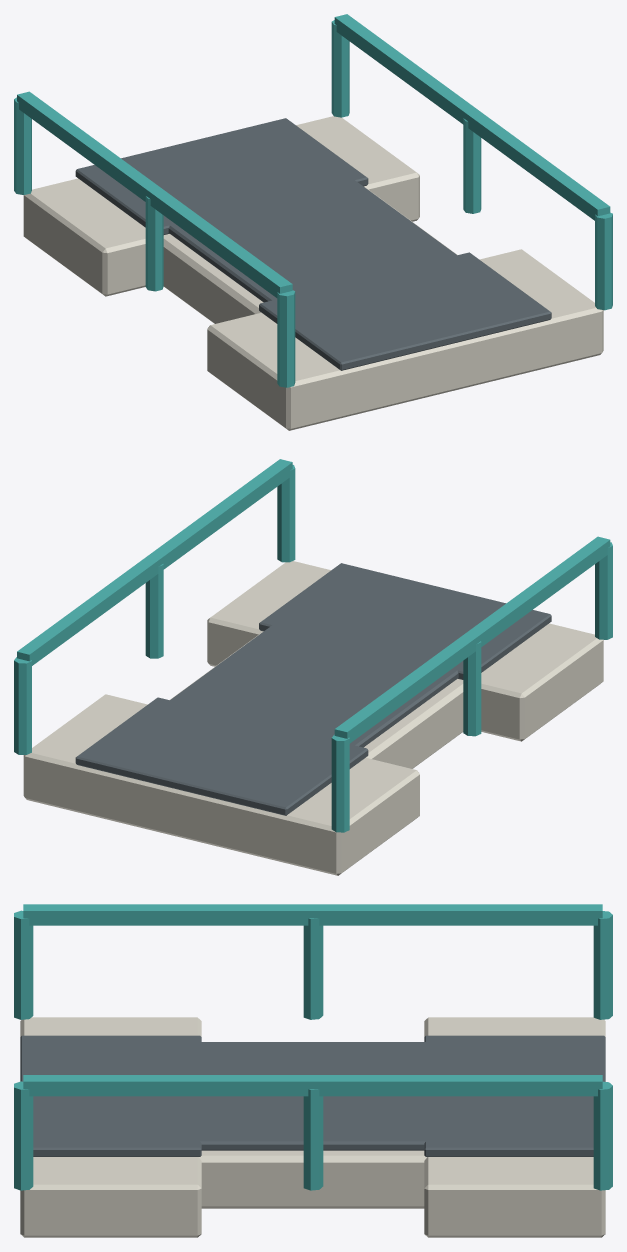
File: BRG_LOCAL_DECK_1x1_STRAIGHT.glb
3 views of the same model, one above another, from view 1: azimuth 30°, elevation 25°; view 2: azimuth 150°, elevation 25°; view 3: azimuth 270°, elevation 25° (orthographic). The views are drawn at different scales.
Visible parts, largest first — view 1: BRG_LOCAL_DECK_1x1_STRAIGHT_Visual; view 2: BRG_LOCAL_DECK_1x1_STRAIGHT_Visual; view 3: BRG_LOCAL_DECK_1x1_STRAIGHT_Visual.
Part boxes in pixels (x1,y1,x2,y2): BRG_LOCAL_DECK_1x1_STRAIGHT_Visual: (14, 14, 612, 430); BRG_LOCAL_DECK_1x1_STRAIGHT_Visual: (14, 459, 612, 875); BRG_LOCAL_DECK_1x1_STRAIGHT_Visual: (14, 904, 612, 1237).
Size of what is drawn, in the model's own units: 1.45 by 0.6075 by 2.05.
